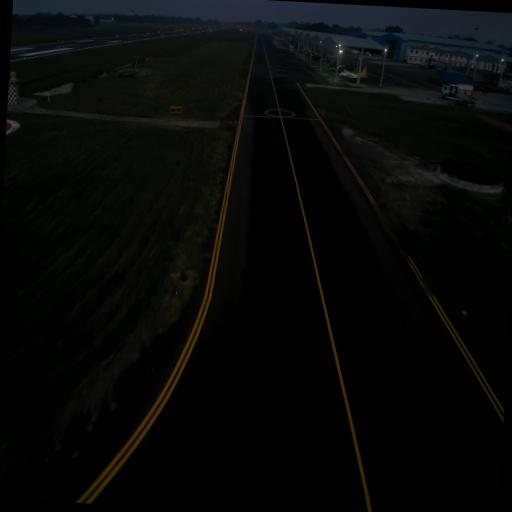on: (174, 285, 179, 298)
